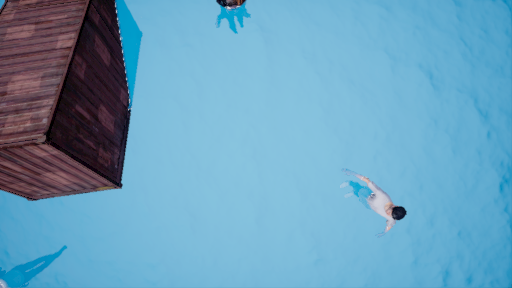person: (330, 167, 406, 235)
